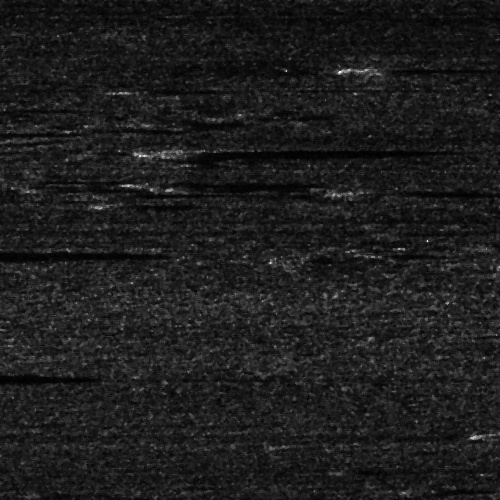object: (140, 142, 213, 161), (314, 63, 439, 72), (303, 185, 408, 194), (86, 199, 169, 206), (454, 238, 500, 247), (38, 497, 163, 500), (107, 87, 170, 92), (123, 177, 164, 180)
shadow: (177, 142, 415, 161), (356, 185, 500, 194), (377, 63, 500, 72), (128, 199, 219, 206), (0, 370, 44, 381), (139, 87, 232, 92), (101, 497, 236, 500), (0, 130, 74, 135), (144, 177, 237, 180), (0, 251, 77, 254), (486, 238, 500, 247), (448, 433, 499, 434)
